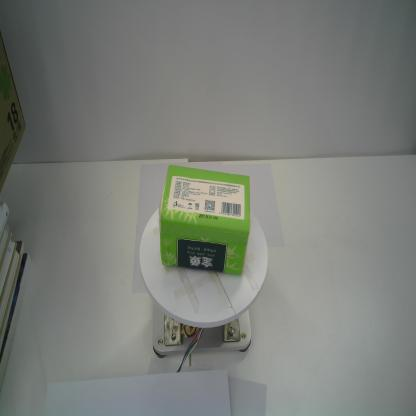Tissue: (156, 163, 252, 279)
